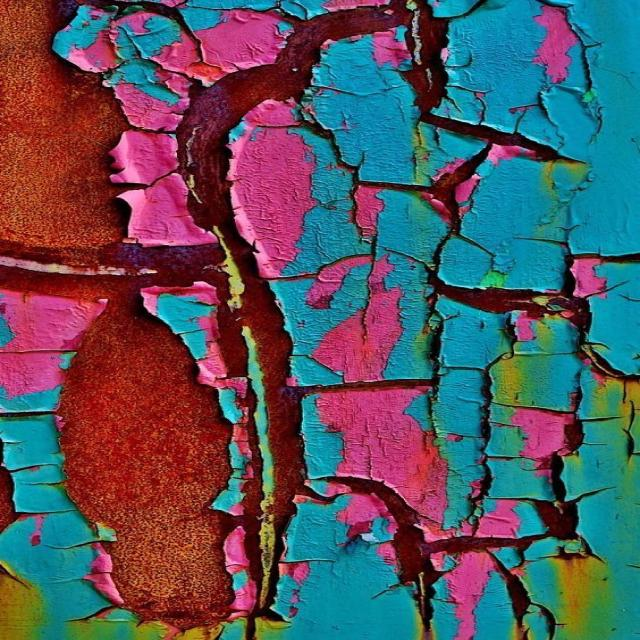Uniform Corrosion: (0, 0, 559, 630), (330, 477, 519, 629), (428, 251, 639, 331), (579, 331, 639, 384), (532, 479, 576, 539), (564, 420, 581, 449)
